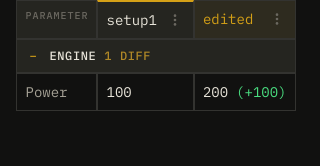
ComparisonTable save by overwriting button state › disables 'Save by overwriting...' but keeps it visible when there are no edits
Click the button titled "Actions" next to "edited" at (276, 19), box [266,9,286,29]
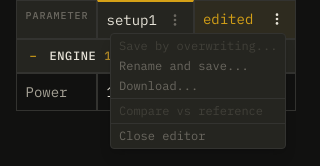
Now the button "Save by overwriting..." is disabled, box [111,36,285,56]
